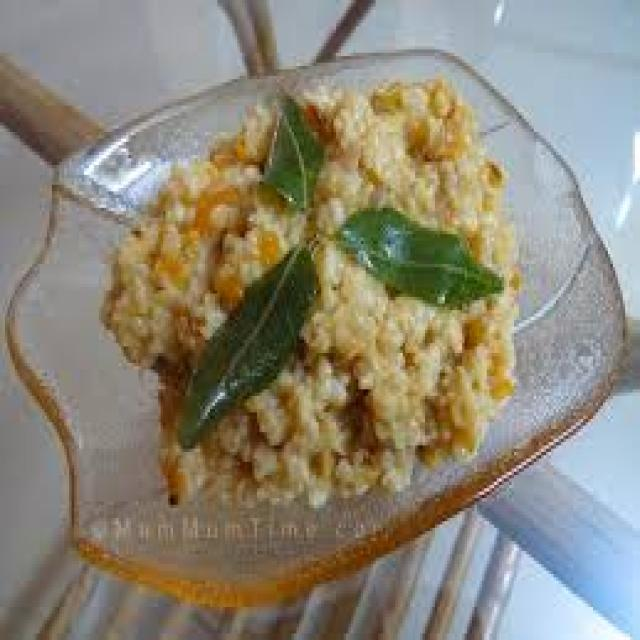UPMA: (102, 78, 516, 508)
